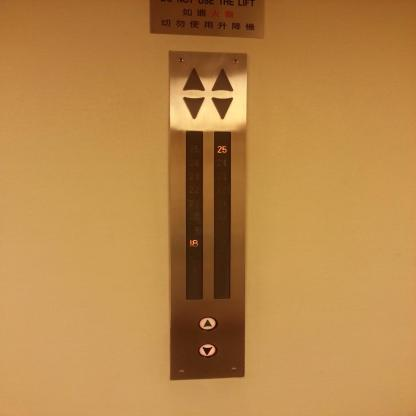down: (198, 343, 218, 357)
led: (185, 131, 203, 300), (214, 131, 230, 300)
up: (198, 316, 218, 332)
